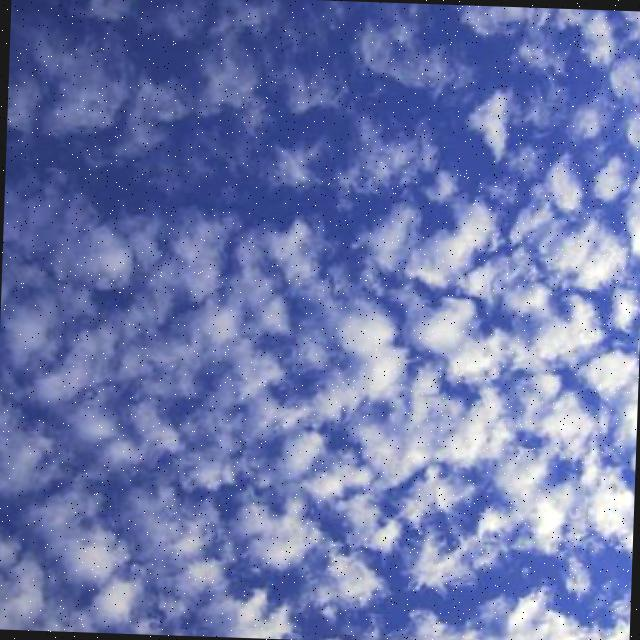Cc: (1, 114, 640, 565)
